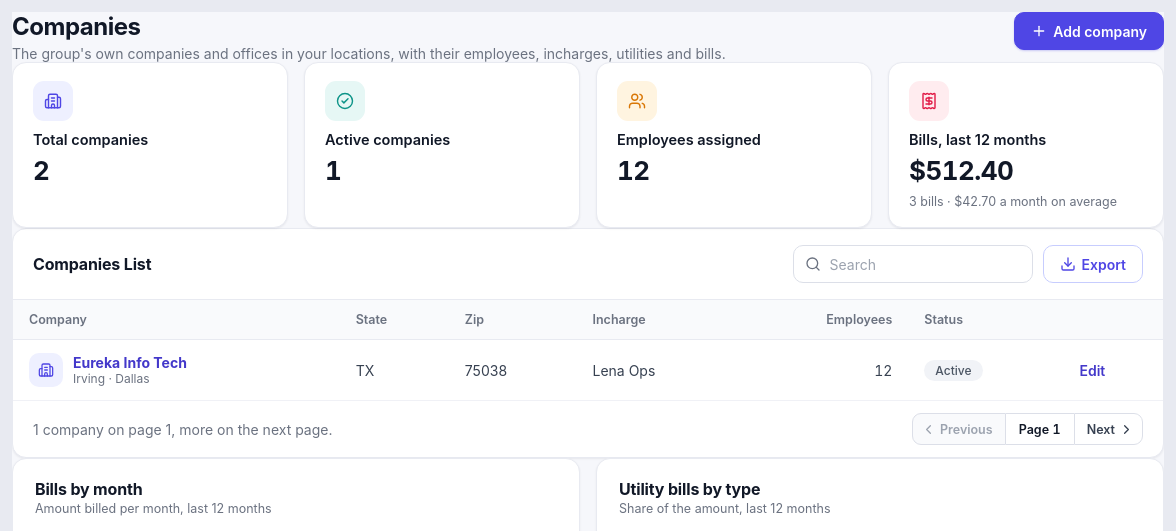
it: Companies list › searches by name after a pause and pages with the cursor
The image size is (1176, 531).
In the search field named "Search companies": (912, 264) [792,245,1032,283], type "Eure"
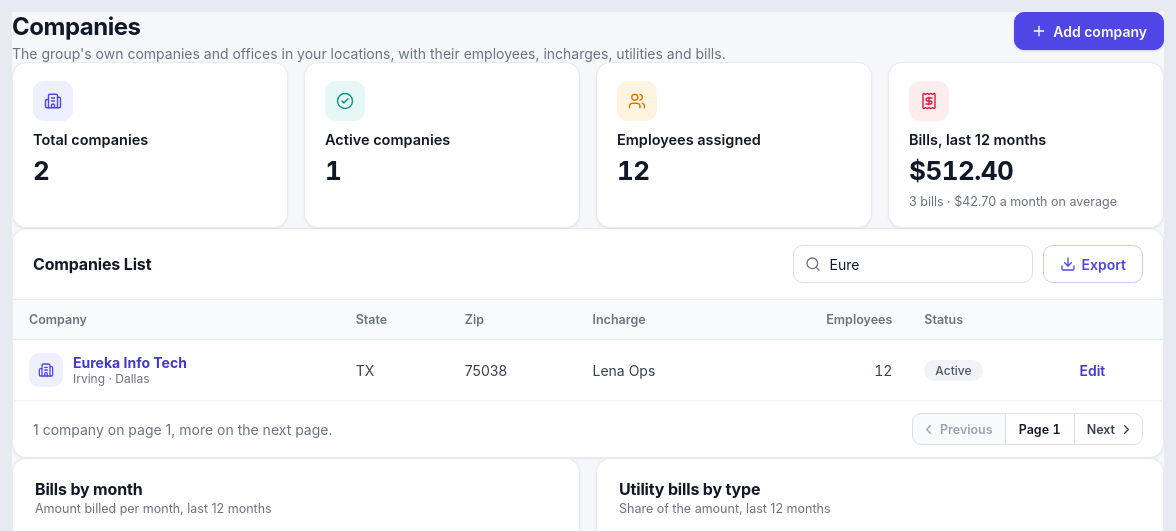
Click the button "Next": click(1108, 429) [1074,413,1143,445]
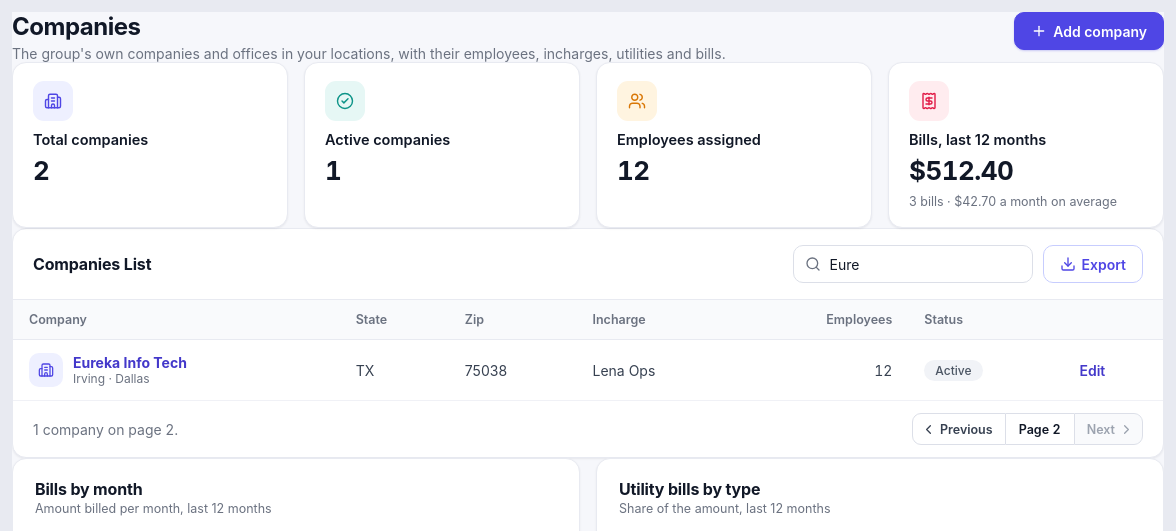
expect the text "Page 2" is shown: met, box [1006,413,1074,445]
